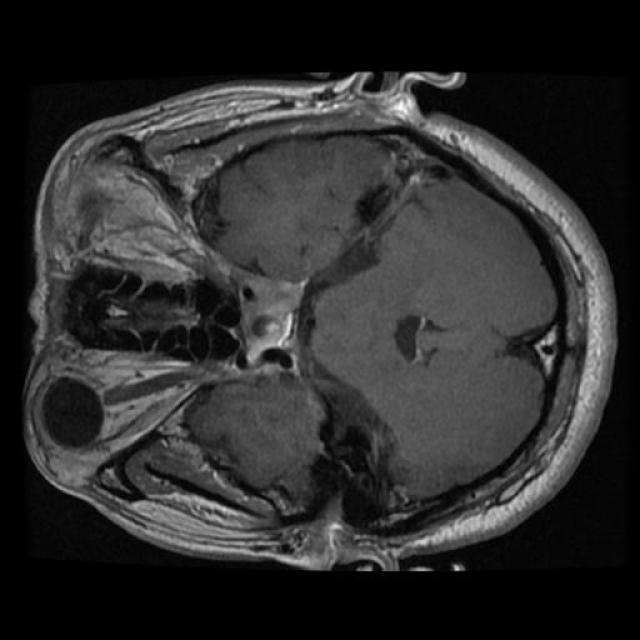Pituitary: (240, 273, 307, 371)
